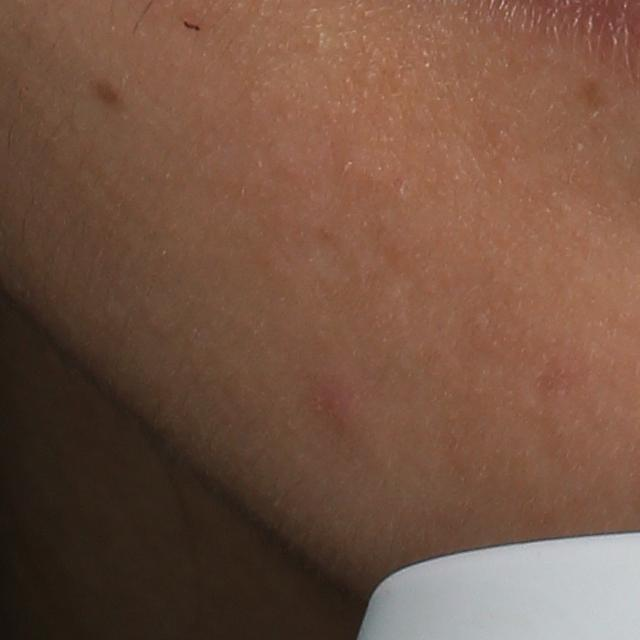papule: (318, 386, 360, 437)
